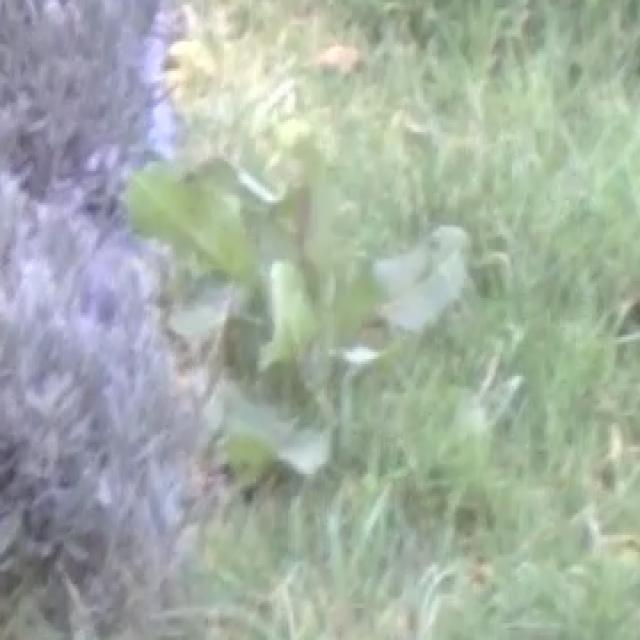organic waste: (156, 76, 538, 480)
